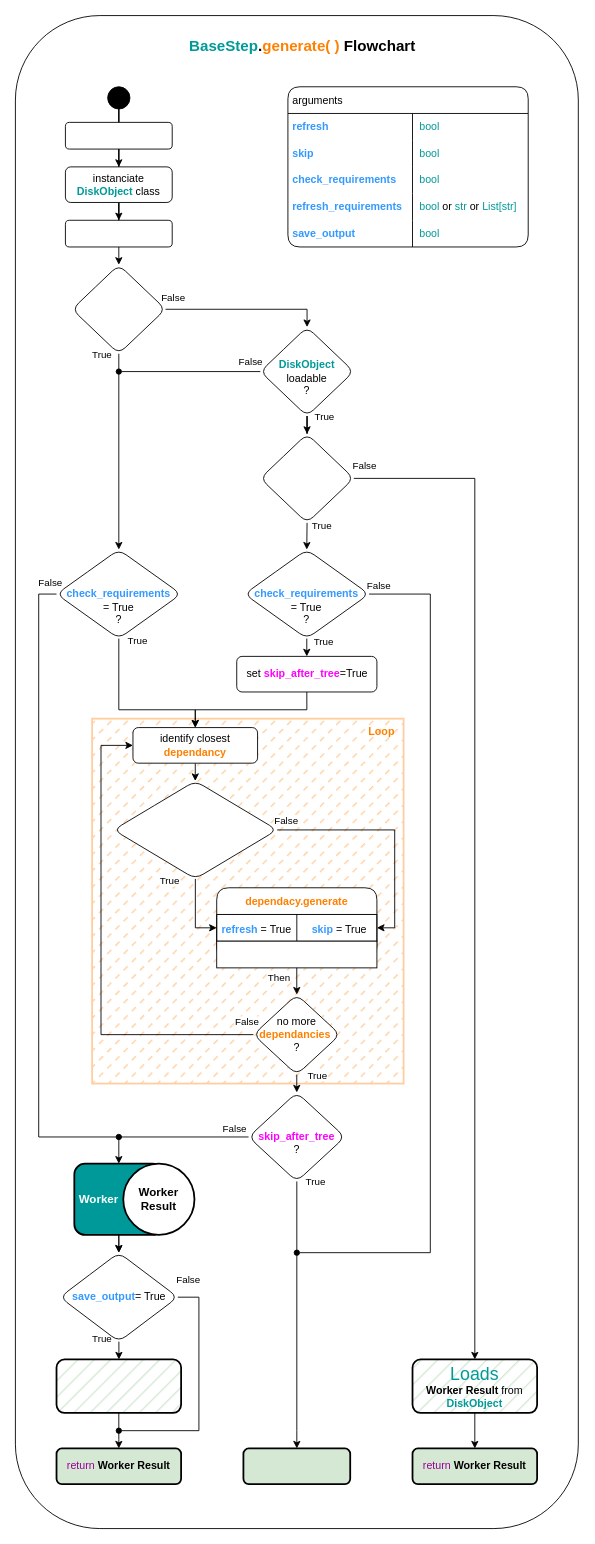
This 595x1544 diagram has some shape labels left out. Each missing label, with the centre of its shape:
"check_requirement s = False" belongs at point 296,954.
"dependency is in refresh_requirements ?" belongs at point 195,829.
"initialize logger" belongs at point 118,135.
"refresh = True ?" belongs at point 118,309.
"resolve dependancy stack" belongs at point 118,233.
"return None" belongs at point 296,1466.
"Saves Worker Result to DiskObject" belongs at point 118,1385.
"skip = True ?" belongs at point 306,478.
